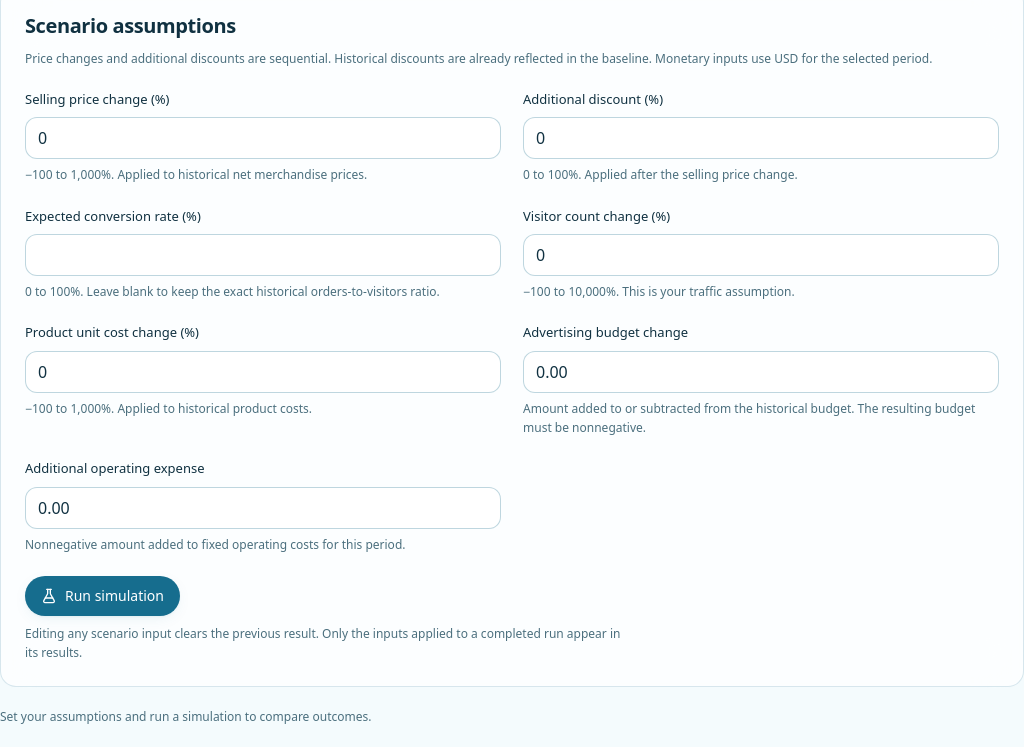
Test case: Simulation Lab form › shows missing baseline metrics and server warnings without substituting zero
(page scrolled)
Click the button "Run simulation" at (102, 596), box [25, 576, 180, 616]
(page scrolled)
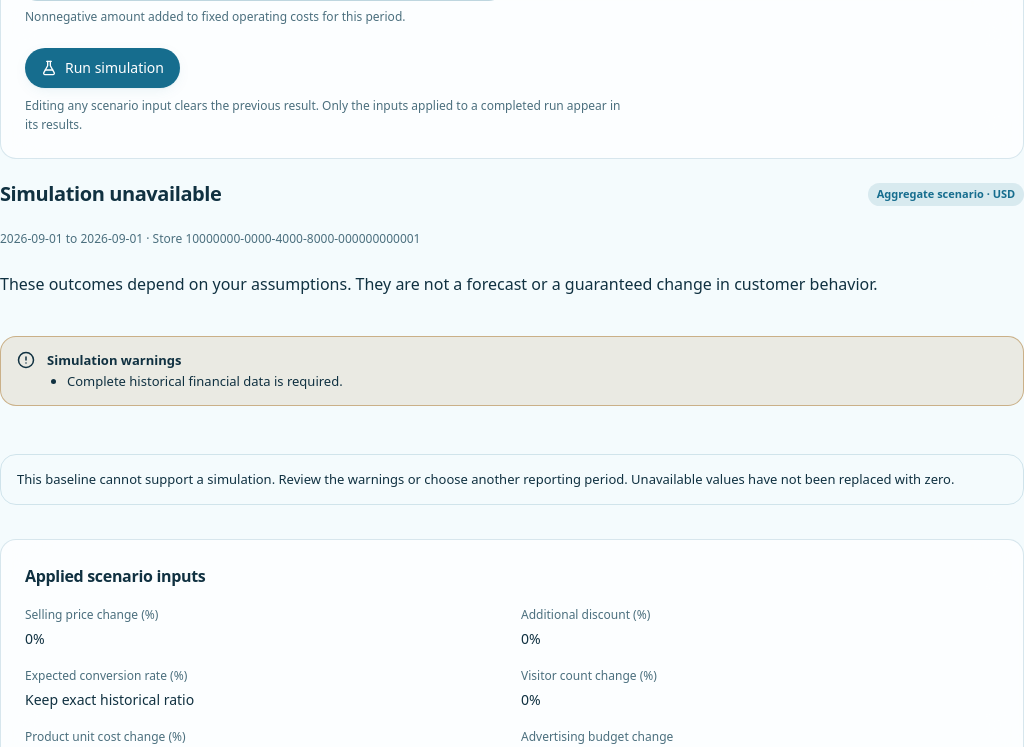
Check: the heading "Simulation unavailable" is shown, box [0, 179, 222, 209]
Check: the list item "Complete historical financial data is required." is shown, box [67, 371, 343, 391]
